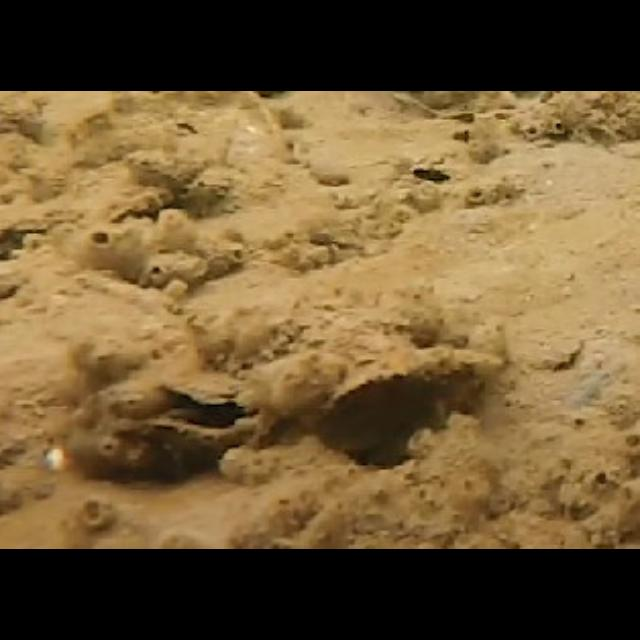Oyster-Closed: (326, 347, 500, 450)
Oyster-Open: (152, 371, 275, 468)
